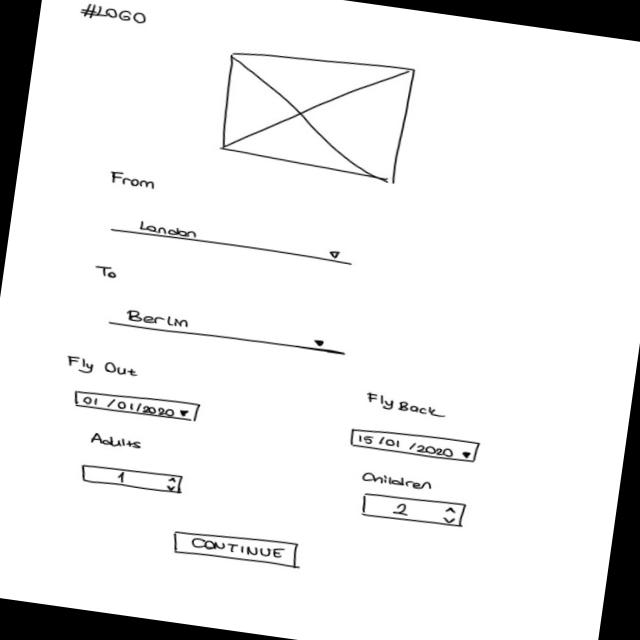button: (170, 525, 304, 574)
image: (216, 43, 421, 188)
label: (364, 392, 452, 423), (64, 354, 142, 384), (78, 1, 152, 29), (360, 471, 438, 494), (88, 430, 146, 453), (108, 170, 162, 193), (92, 262, 124, 283)
number-input: (359, 490, 471, 534), (80, 461, 187, 498)
select: (108, 305, 351, 360), (109, 216, 358, 268), (349, 425, 485, 468), (72, 386, 204, 427)
